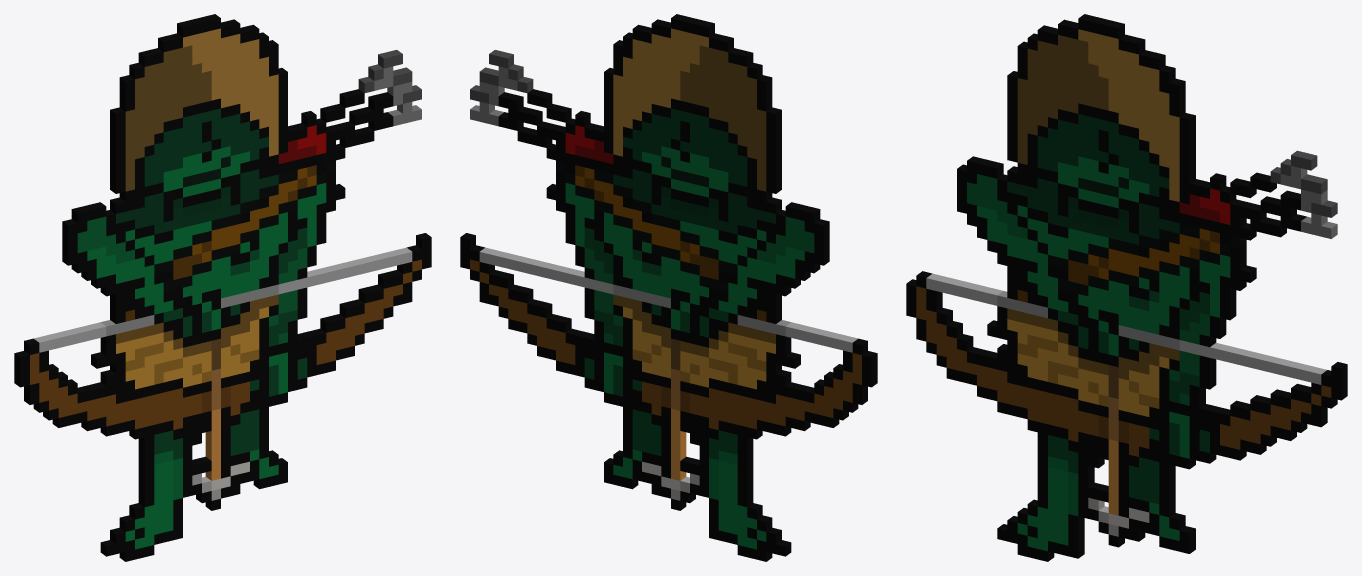
The model's file is GobArcah.fbx.
The picture shows the model from 3 angles, left to right: view 1: azimuth 30°, elevation 25°; view 2: azimuth 150°, elevation 25°; view 3: azimuth 330°, elevation 25°; orthographic projection. The views are drawn at different scales.
Visible parts, largest first — view 1: Curve.681; view 2: Curve.681; view 3: Curve.681.
Boxes of the visible parts, left/top/right/bottom form: Curve.681: left=14, top=14, right=431, bottom=561; Curve.681: left=460, top=14, right=877, bottom=561; Curve.681: left=906, top=14, right=1347, bottom=561.
Bounding box in the file's own units: 36.41 × 44.02 × 0.9.
